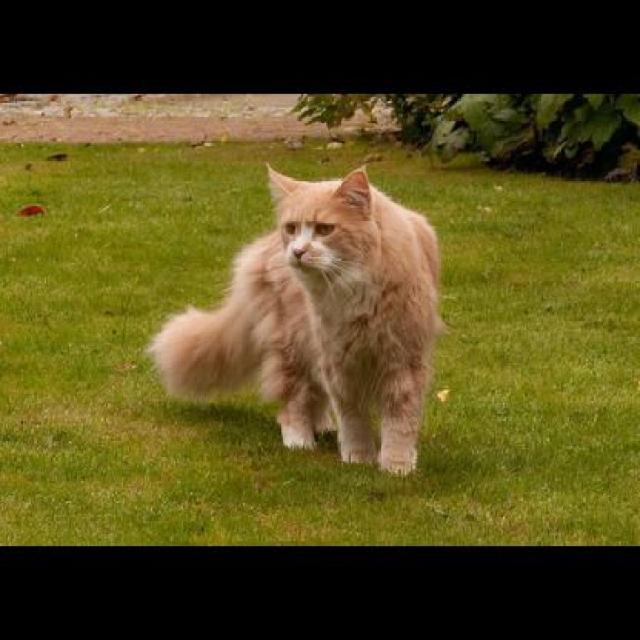unauthorized: (146, 160, 448, 477)
